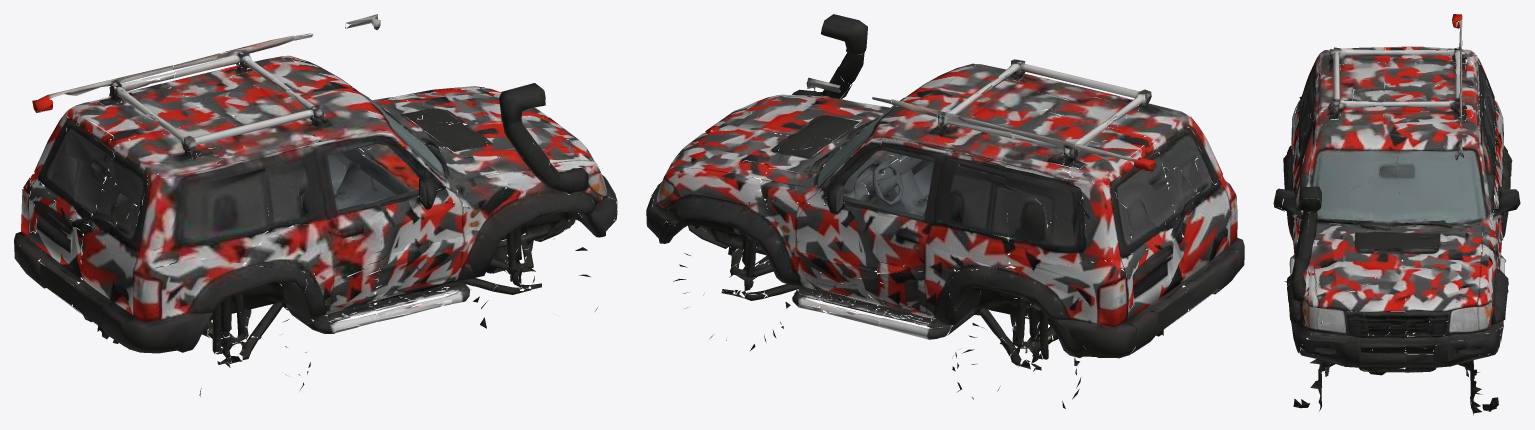
File: camo_patrol.glb
3 views of the same model, side by side, from view 1: azimuth 30°, elevation 25°; view 2: azimuth 150°, elevation 25°; view 3: azimuth 270°, elevation 25° (orthographic). The views are drawn at different scales.
Visible parts, largest first — view 1: V_BODY, V_SNORKEL; view 2: V_BODY, V_SNORKEL; view 3: V_BODY, V_SNORKEL.
Part boxes in pixels (box(x1,y1,x2,y2)): V_BODY: box(14, 14, 617, 396); V_SNORKEL: box(499, 83, 592, 192); V_BODY: box(646, 59, 1244, 408); V_SNORKEL: box(792, 14, 867, 98); V_BODY: box(1273, 14, 1520, 415); V_SNORKEL: box(1291, 186, 1321, 302).
Size of the model in its own units: 4.4 by 2.31 by 2.23.
Materials: 2 (2 with a texture image).
